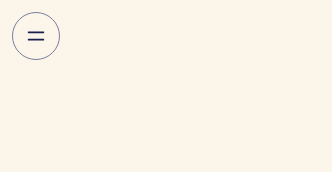
Scenario: NavDisclosure › el botón expone su estado y señala la navegación
Click the button named "Menú" at (36, 36), box [12,12,60,60]
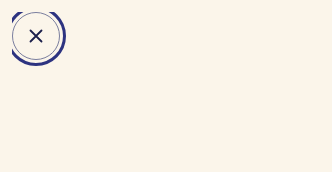
Result: the button named "Menú" is expanded
Click the button named "Menú" at (36, 36), box [12,12,60,60]
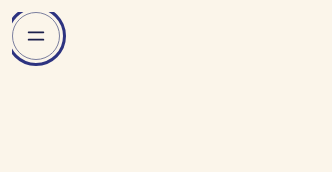
Result: the button named "Menú" is collapsed at [12,12,60,60]
